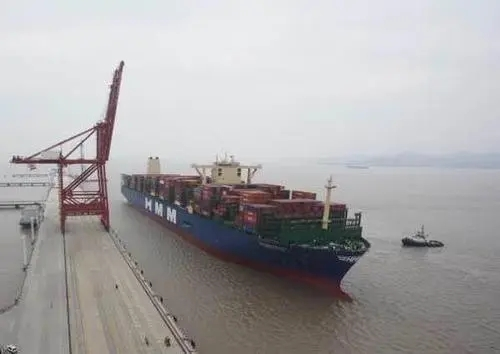Cargoship: (118, 154, 371, 296)
otherboat: (400, 226, 447, 249)
